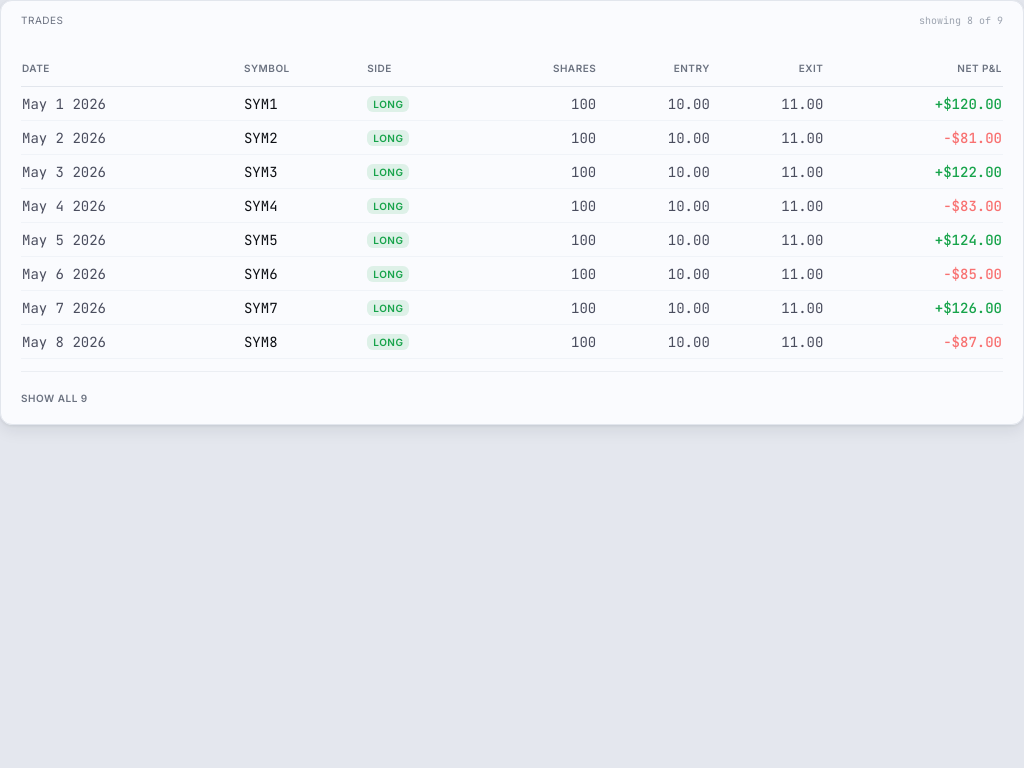
Scenario: PM3 the arrows move to the neighbour in the setup order › next goes to the row below, prev comes back
Click the button "May 4 2026 SYM4 long 100 10.00 11.00 -$83.00": coordinates (64, 206) [21, 188, 1003, 222]
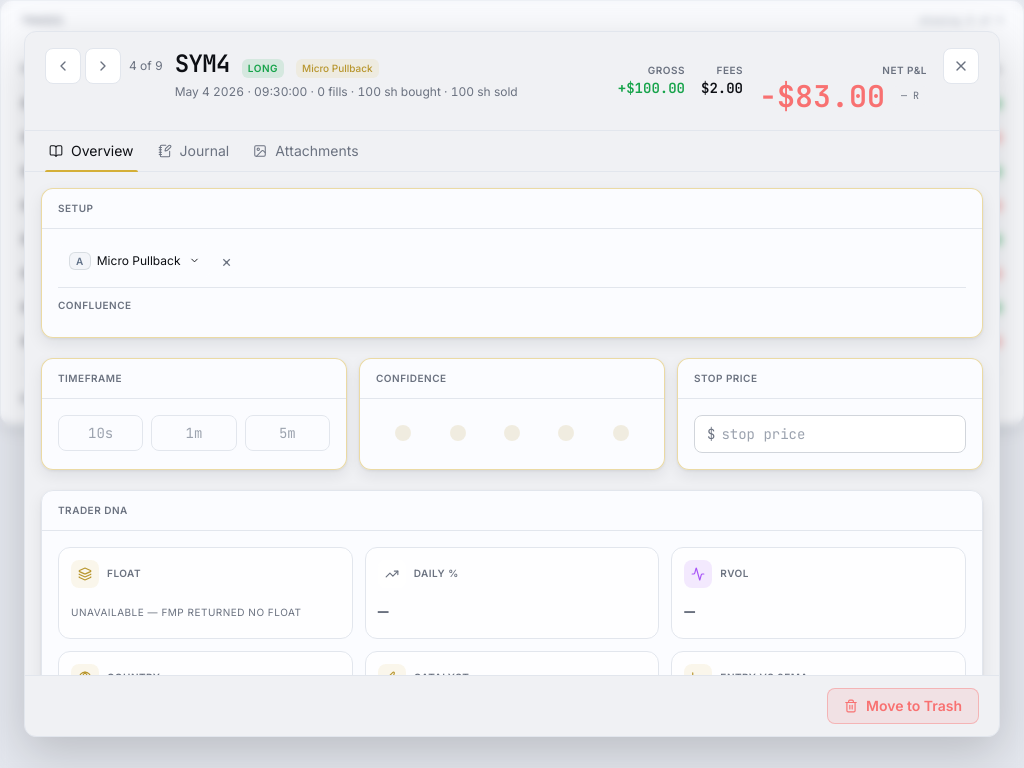
Check: the heading with id "trade-detail-title" reads "SYM4", box [175, 48, 230, 79]
Click the button named "Next trade": coordinates (103, 66) [85, 48, 121, 84]
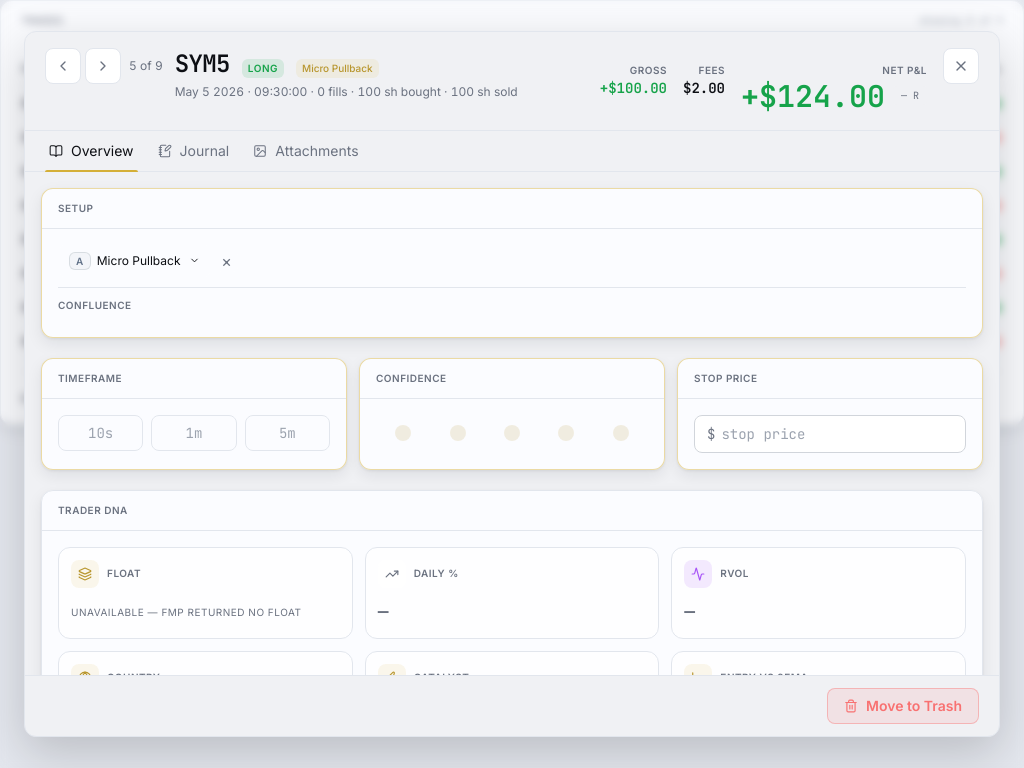
Check: the heading with id "trade-detail-title" reads "SYM5", box [175, 48, 230, 79]
Click the button named "Previous trade": coordinates (63, 66) [45, 48, 81, 84]
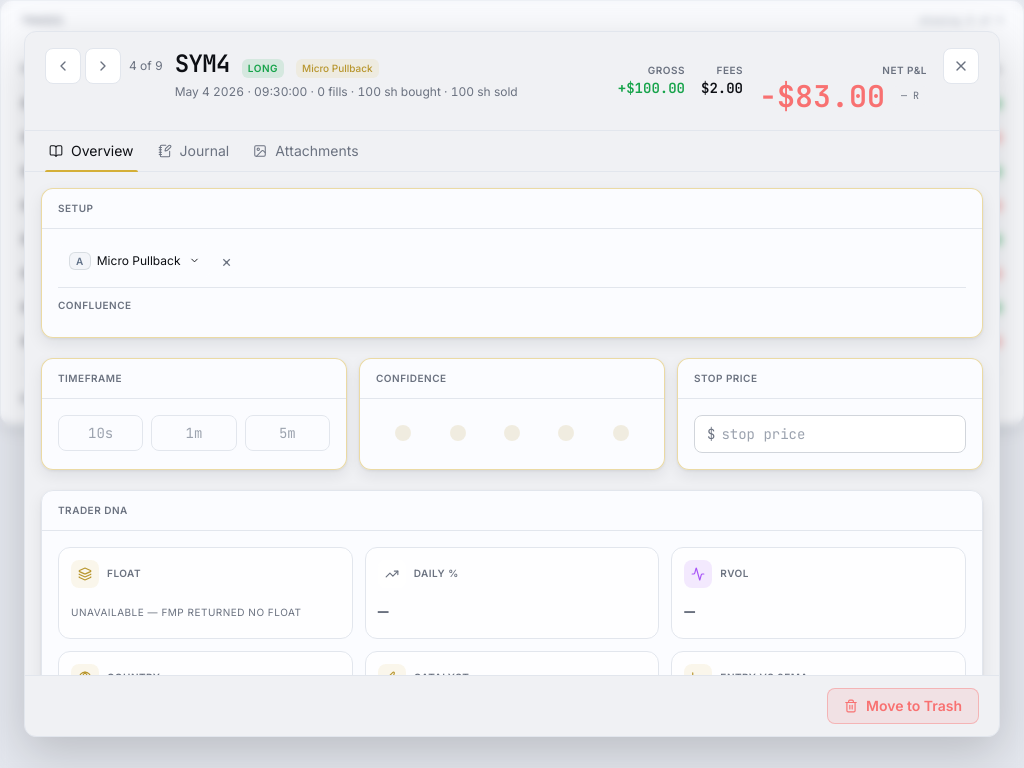
Check: the heading with id "trade-detail-title" reads "SYM4", box [175, 48, 230, 79]
